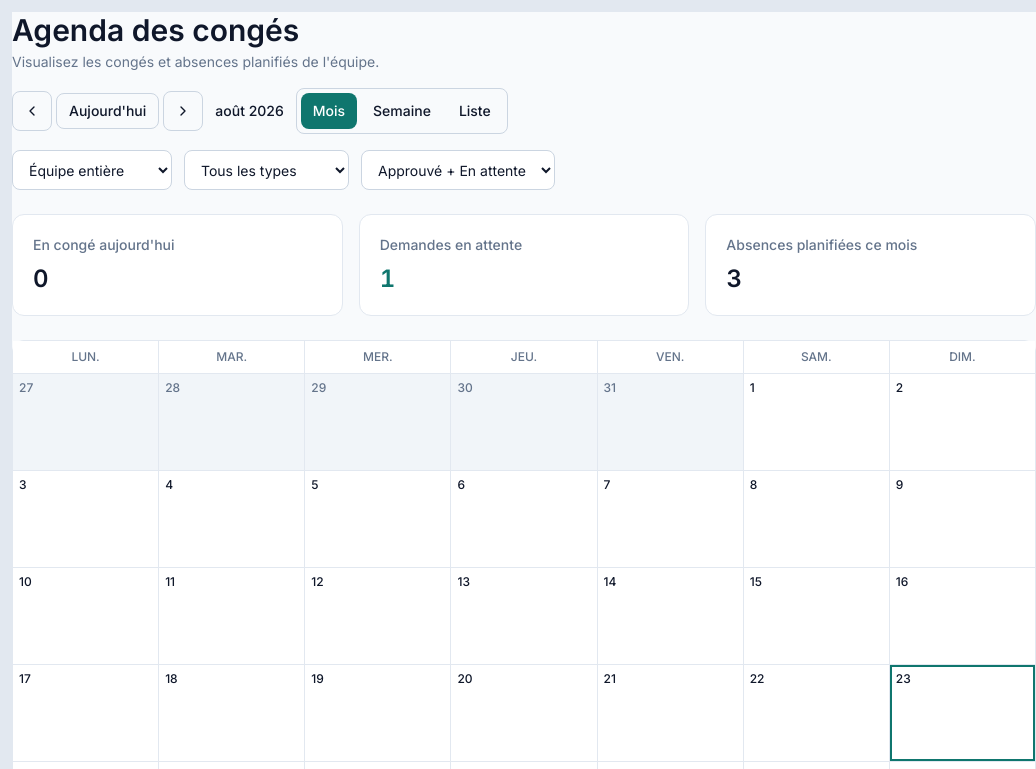
TeamLeaveCalendarPage — filters (task §40 10-12, §14/§15/§16) › default Status filter (Approuvé + En attente) hides rejected leave; the Status filter can reveal it explicitly (task §15/§16/§18)
The image size is (1036, 769).
Click the button named "Période précédente" at coordinates (32, 111), box [12,91,52,131]
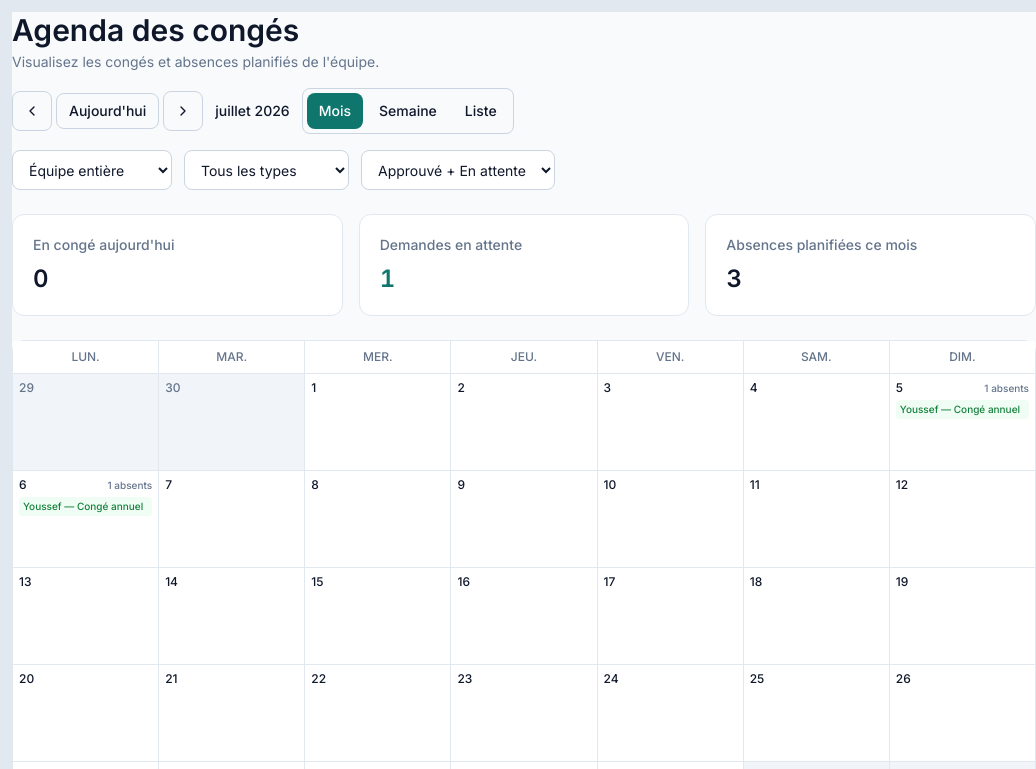
Select "Refusé" in the dropdown named "Statut" at coordinates (458, 170), box [361,150,555,190]
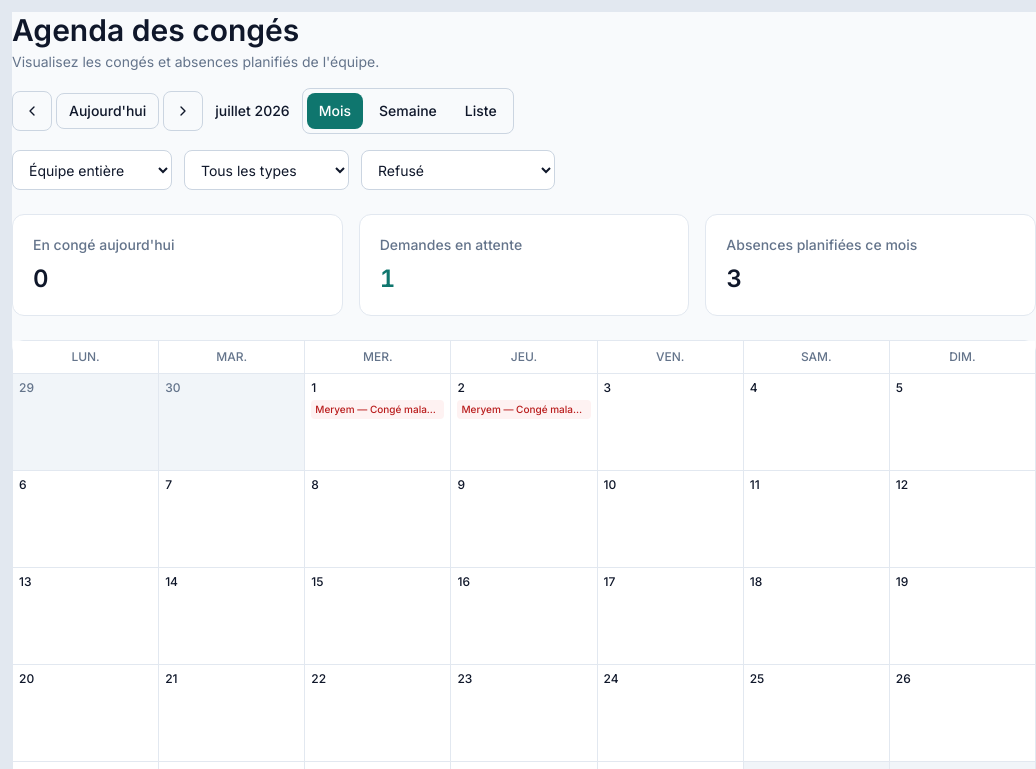
Expected: the button "Youssef" is gone
